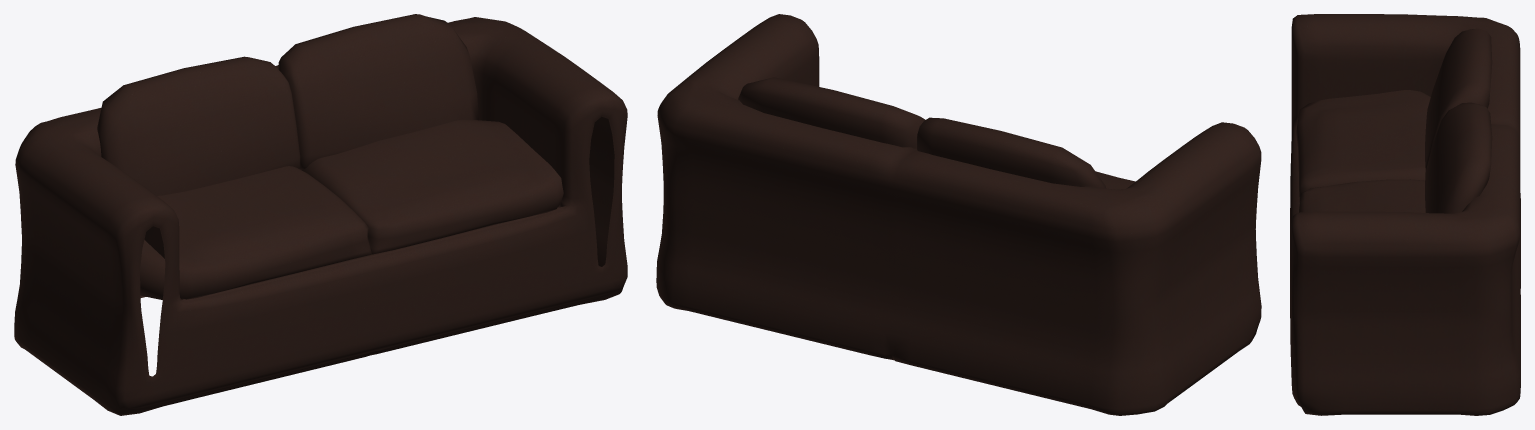
Rendered from Sofa2.glb.
3 renders of one model, left to right at view 1: azimuth 30°, elevation 25°; view 2: azimuth 150°, elevation 25°; view 3: azimuth 270°, elevation 25°, orthographic. The views are drawn at different scales.
Visible parts, largest first — view 1: Object_45; view 2: Object_45; view 3: Object_45.
Part boxes in pixels (x1,y1,x2,y2): Object_45: (14,14,627,415); Object_45: (656,14,1261,415); Object_45: (1290,14,1520,415).
Size of the model in its own units: 3.23 by 1.42 by 1.4.
Materials: 1 (1 with a texture image).
